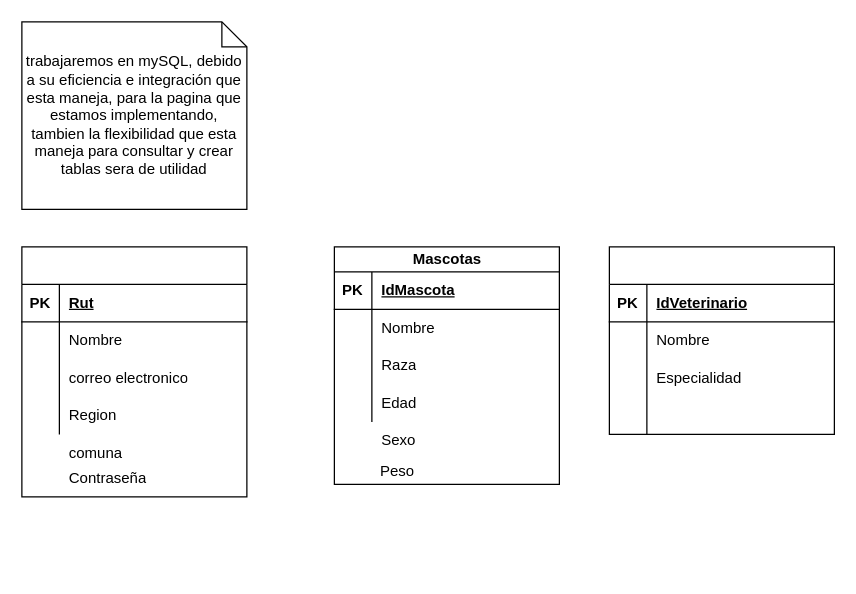
This 856x594 diagram has some shape labels left out. The box of each missing label's shape, as (x1, y1, x2, y2) in pixels:
Usuarios: (21, 246, 247, 497)
Veterinarios: (608, 246, 834, 434)
